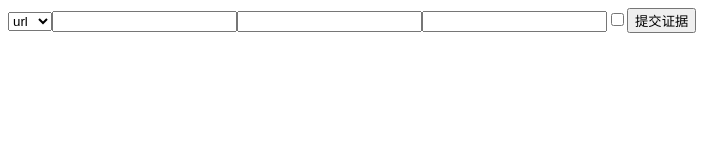
EvidencePanel › 提交 → injectEvidence → 展示 alignment/fact_added/ledger_version
Type "http://x" into the field with test id "ev-content-ref" at (144, 22), box [52,11,237,32]
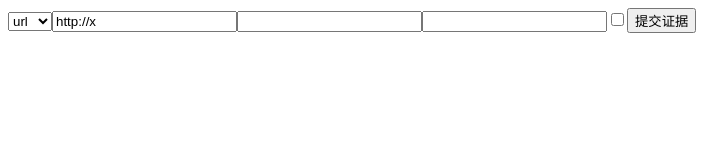
Type "我的断言" into the field with test id "ev-claim" at (514, 22), box [422,11,607,32]
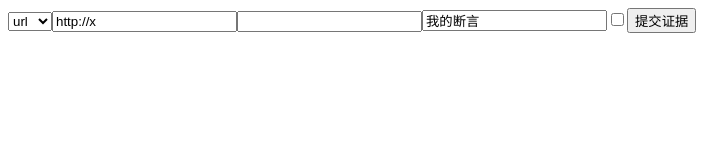
Click the checkbox with test id "ev-optin" at (618, 20), box [611,13,624,26]
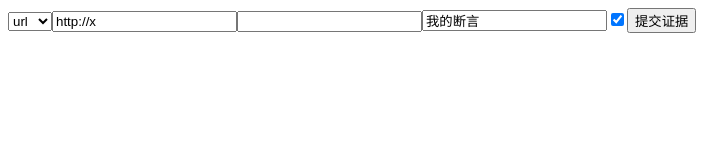
Click the button with test id "ev-submit" at (662, 20), box [627,8,696,33]
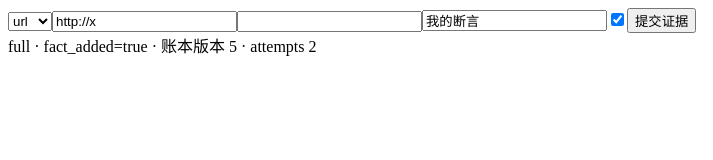
Check: the text with test id "ev-result" shows "full", box [8,38,30,55]
Check: the text with test id "ev-result" shows "5", box [161,38,316,55]
